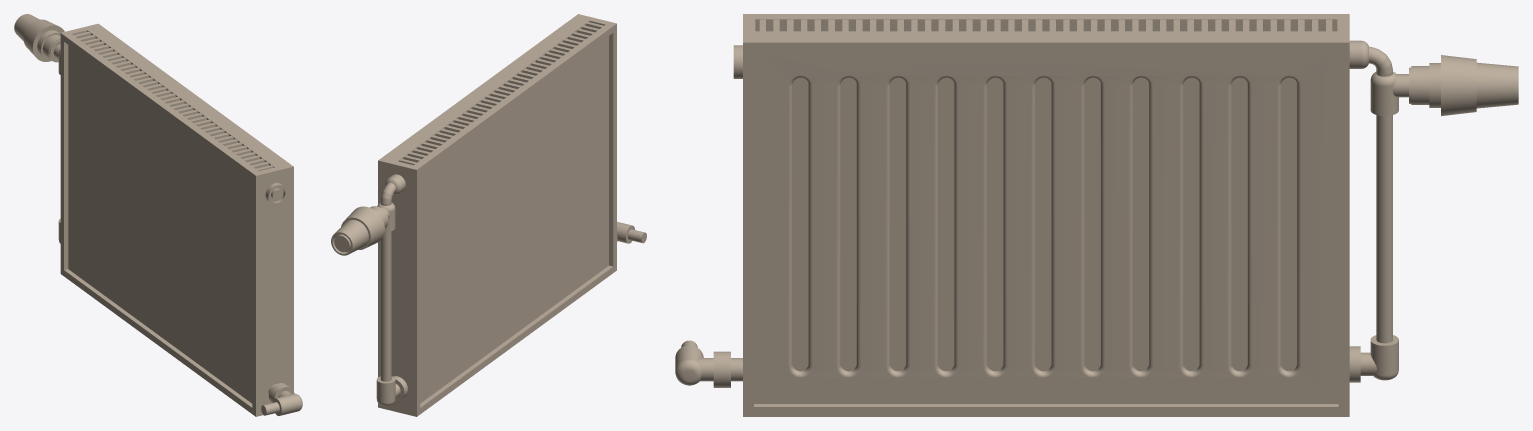
The model's file is Radiateur2_3.fbx.
The picture shows the model from 3 angles, left to right: view 1: azimuth 30°, elevation 25°; view 2: azimuth 150°, elevation 25°; view 3: azimuth 270°, elevation 25°; orthographic projection. The views are drawn at different scales.
Visible parts, largest first — view 1: pCube1863, pCylinder330, pCylinder1746, pCylinder328, pCylinder1747; view 2: pCube1863, pCylinder334, pCylinder330, pCylinder1746; view 3: pCube1863, pCylinder334, pCylinder330, pCylinder1747, pCylinder336, pCylinder1746, pCylinder333.
Part boxes in pixels (x1,y1,x2,y2): pCube1863: (60, 23, 293, 416); pCylinder330: (14, 14, 64, 62); pCylinder1746: (261, 393, 302, 415); pCylinder328: (265, 183, 287, 205); pCylinder1747: (268, 383, 294, 402); pCube1863: (378, 14, 616, 416); pCylinder334: (376, 182, 395, 406); pCylinder330: (331, 206, 388, 255); pCylinder1746: (617, 222, 646, 243); pCube1863: (743, 14, 1349, 416); pCylinder334: (1369, 46, 1398, 380); pCylinder330: (1411, 55, 1518, 116); pCylinder1747: (697, 351, 742, 387); pCylinder336: (1370, 71, 1398, 116); pCylinder1746: (675, 340, 703, 385); pCylinder333: (1349, 346, 1376, 382).
Bounding box in the file's own units: 8.88 × 43.34 × 88.5.
